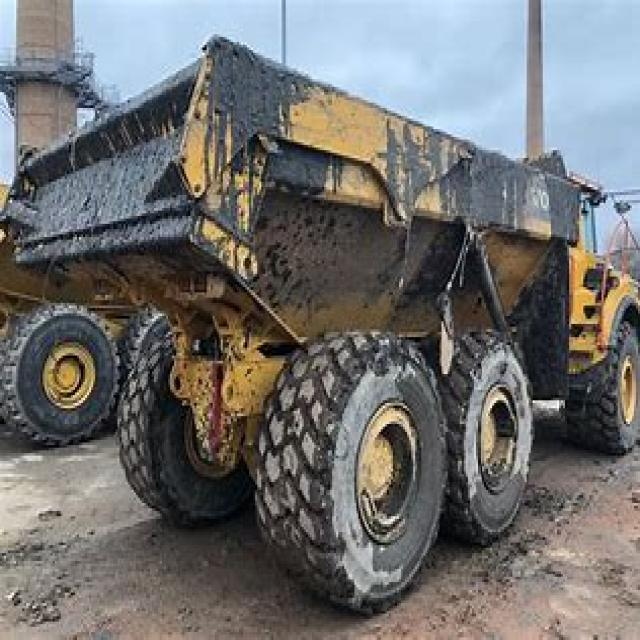dump_truck: (18, 42, 638, 593)
